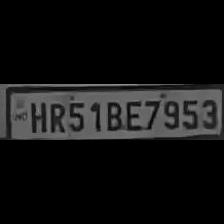1: (87, 99, 103, 133)
3: (199, 97, 219, 129)
5: (66, 98, 86, 132), (180, 97, 198, 129)
7: (141, 97, 159, 130)
9: (161, 97, 179, 129)
B: (102, 98, 122, 132)
E: (124, 97, 142, 130)
H: (27, 100, 46, 132)
R: (46, 100, 64, 132)
